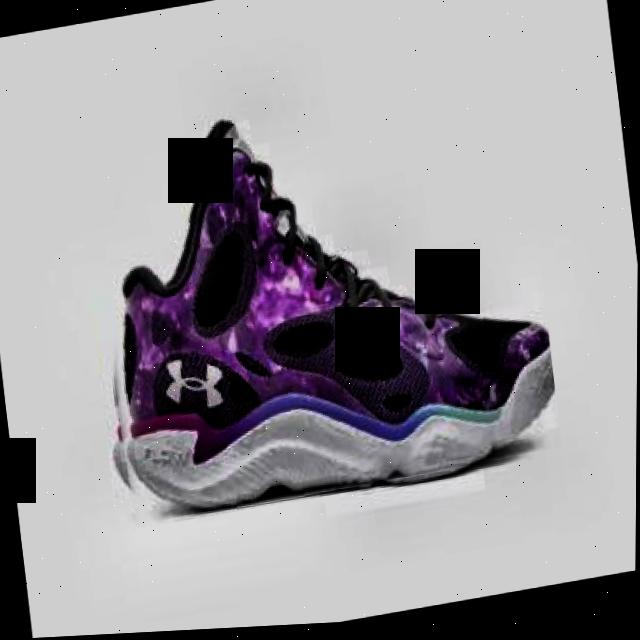shoe: (72, 68, 565, 533)
